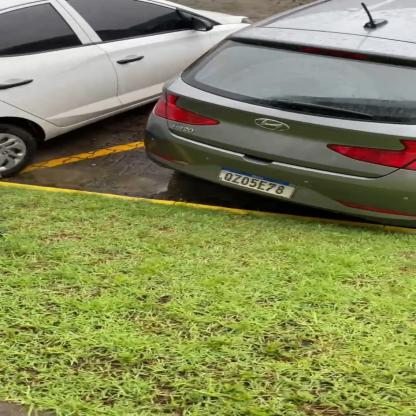Plate: (212, 164, 300, 200)
